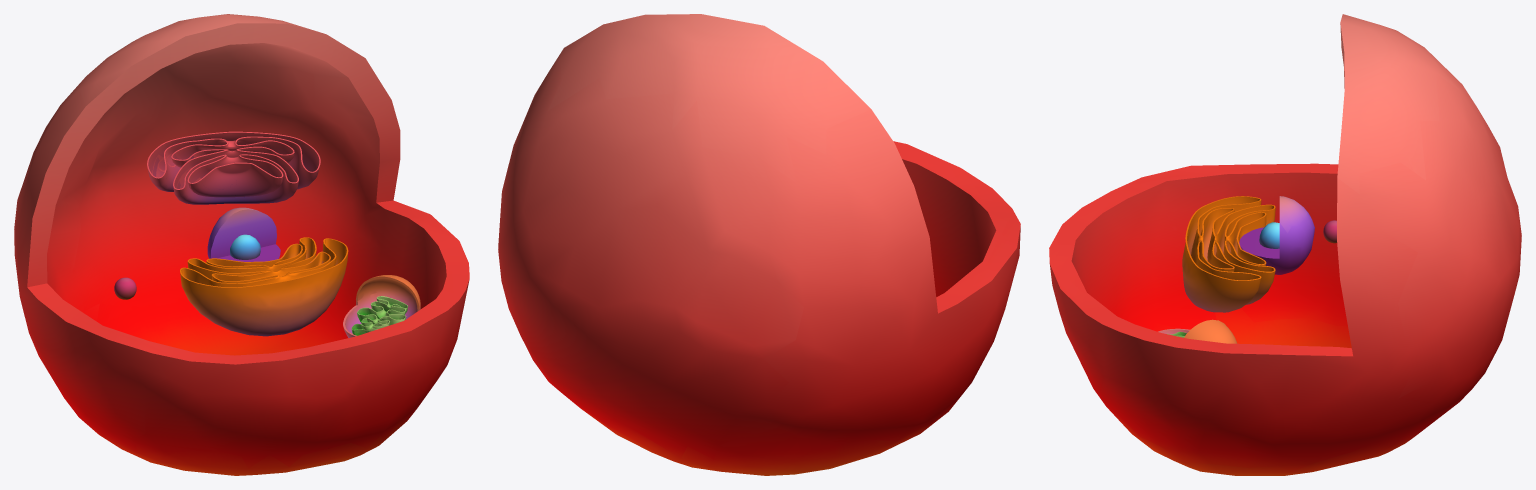
File: SANTIAGO_AMORES_CEL.LULA_ANIMAL.fbx
3 renders of one model, left to right at view 1: azimuth 30°, elevation 25°; view 2: azimuth 150°, elevation 25°; view 3: azimuth 270°, elevation 25°, orthographic. The views are drawn at different scales.
Visible parts, largest first — view 1: MEMBRANA CELULAR, RETÍCULO ENDOPLASMÁTICO, APARATO DE GOLGI, NÚCLEO, MITOCONDRIA, INTERIOR MITOCONDRIA, LISOSOMA.001; view 2: MEMBRANA CELULAR; view 3: MEMBRANA CELULAR, RETÍCULO ENDOPLASMÁTICO, NÚCLEO, MITOCONDRIA.
Part boxes in pixels (box(x1,y1,x2,y2)): MEMBRANA CELULAR: box(14, 14, 469, 475); RETÍCULO ENDOPLASMÁTICO: box(180, 237, 348, 336); APARATO DE GOLGI: box(147, 131, 320, 204); NÚCLEO: box(207, 207, 280, 261); MITOCONDRIA: box(343, 275, 420, 337); INTERIOR MITOCONDRIA: box(351, 296, 408, 335); LISOSOMA.001: box(230, 234, 260, 259); MEMBRANA CELULAR: box(498, 14, 1020, 475); MEMBRANA CELULAR: box(1049, 14, 1521, 475); RETÍCULO ENDOPLASMÁTICO: box(1182, 196, 1275, 312); NÚCLEO: box(1239, 196, 1314, 274); MITOCONDRIA: box(1158, 319, 1237, 343).
Bounding box in the file's own units: 169 × 168 × 176.
8 materials, 8 textured.
